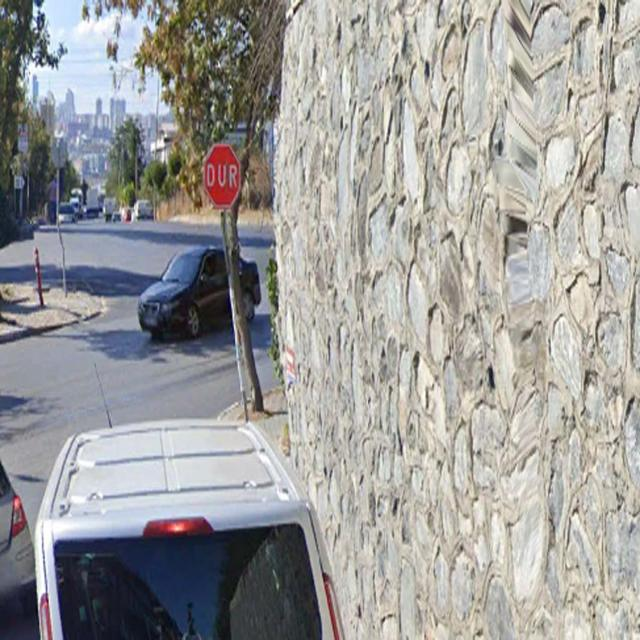dur: (204, 143, 241, 210)
